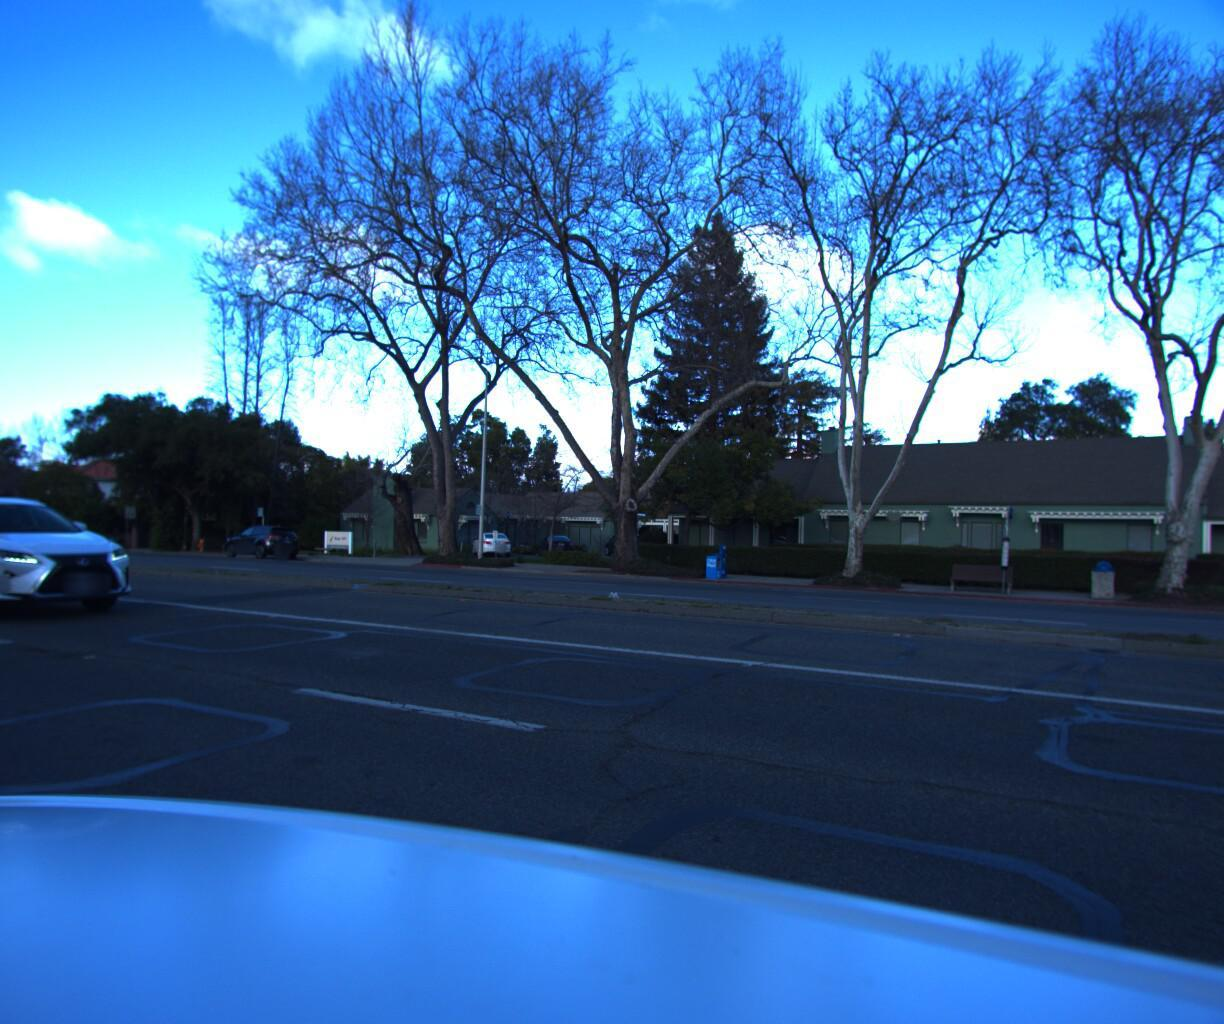car: (0, 477, 157, 628), (213, 519, 301, 558)
